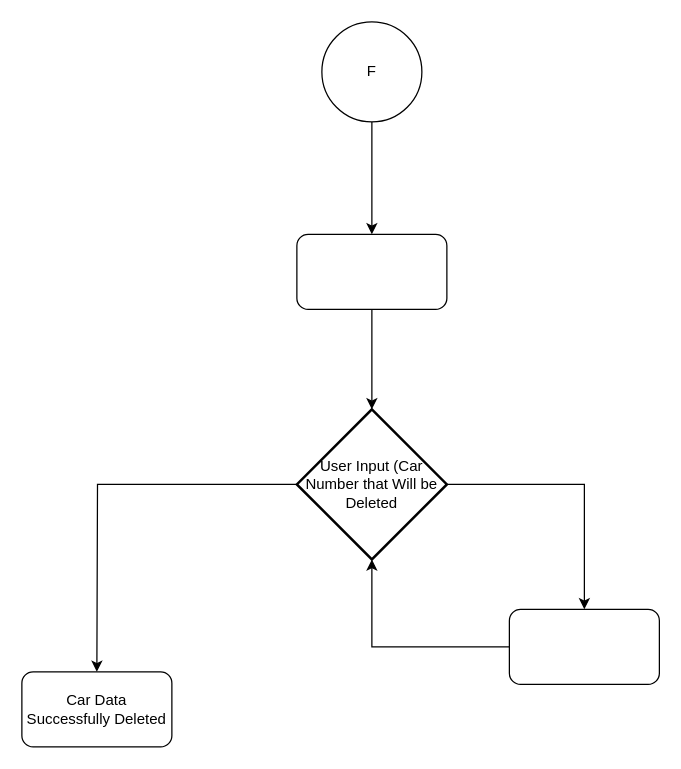
Image size: 681x769. Some labels were removed from this diagram. The shapes that lost their labels are listed below. From the top down, each one's centre as x and y in pixels, then its label:
At [371,271]: "Display Car Data".
At [583,646]: "User re-input".
